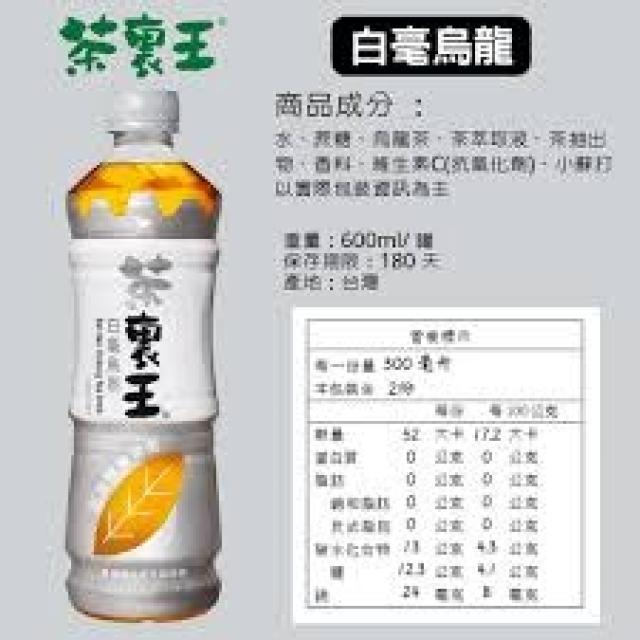ChaLiWong_WhiteOolong: (60, 82, 230, 622)
